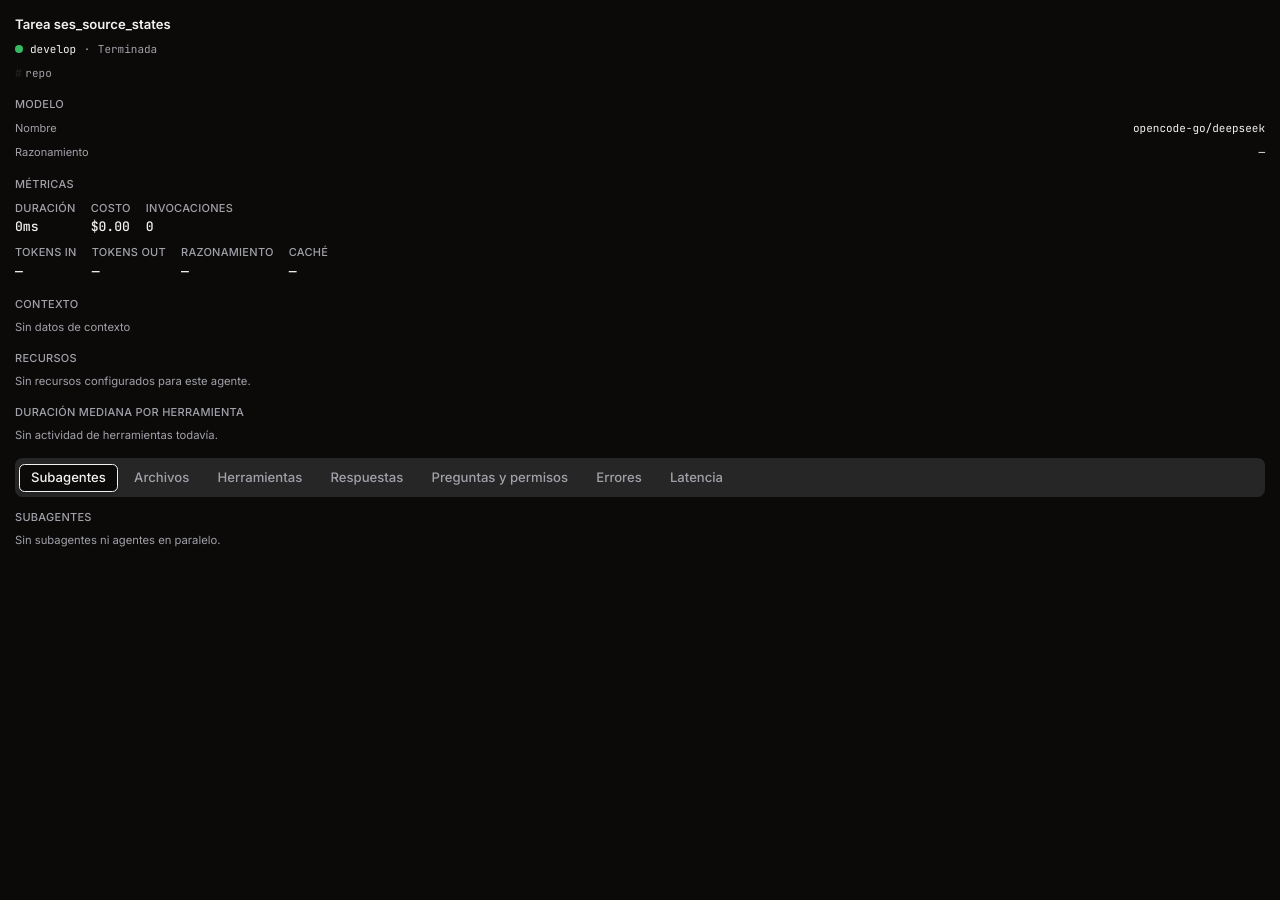
Test: InspectorPanel — estados por fuente de cada sección (§5, U6↔U4) › Preguntas y permisos: solo los permisos en 404 muestran error (OR de tres fuentes) y nunca el vacío
Click the tab "Preguntas y permisos" at (500, 478), box top-left (419, 464), bottom-right (580, 492)
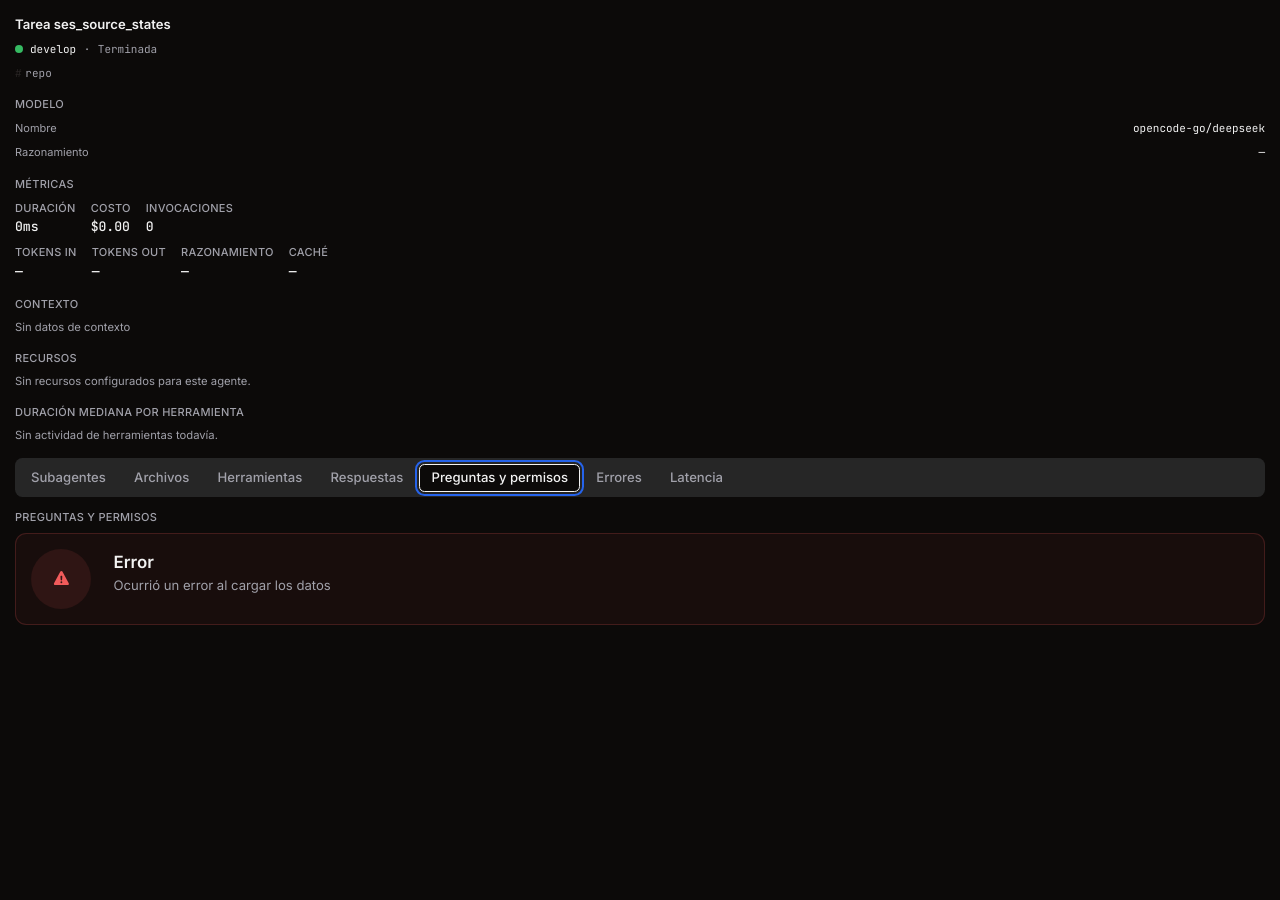
Check: the text "Ocurrió un error al cargar los datos" is shown, box top-left (114, 575), bottom-right (331, 596)
